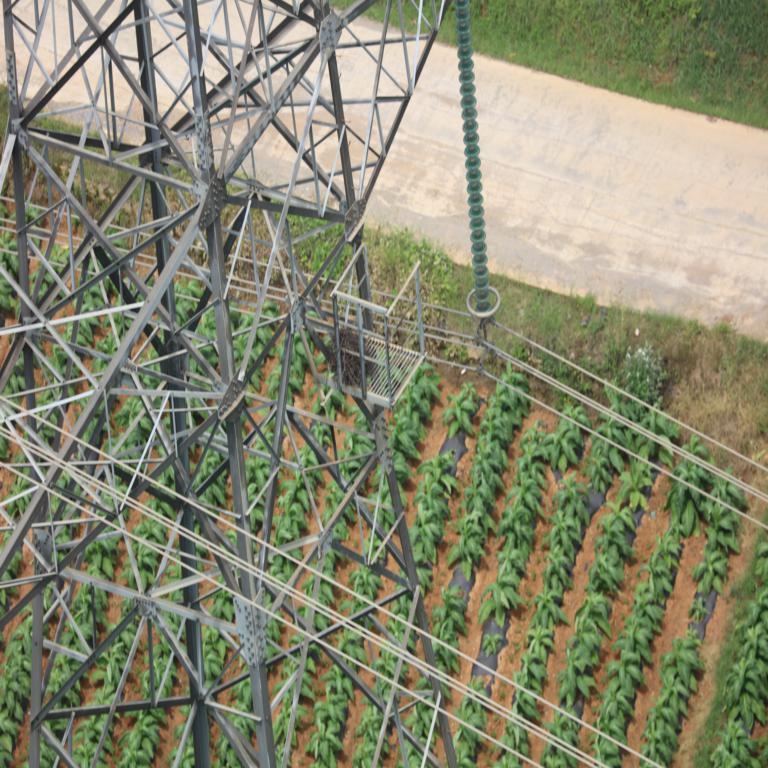nest: (327, 331, 379, 383)
